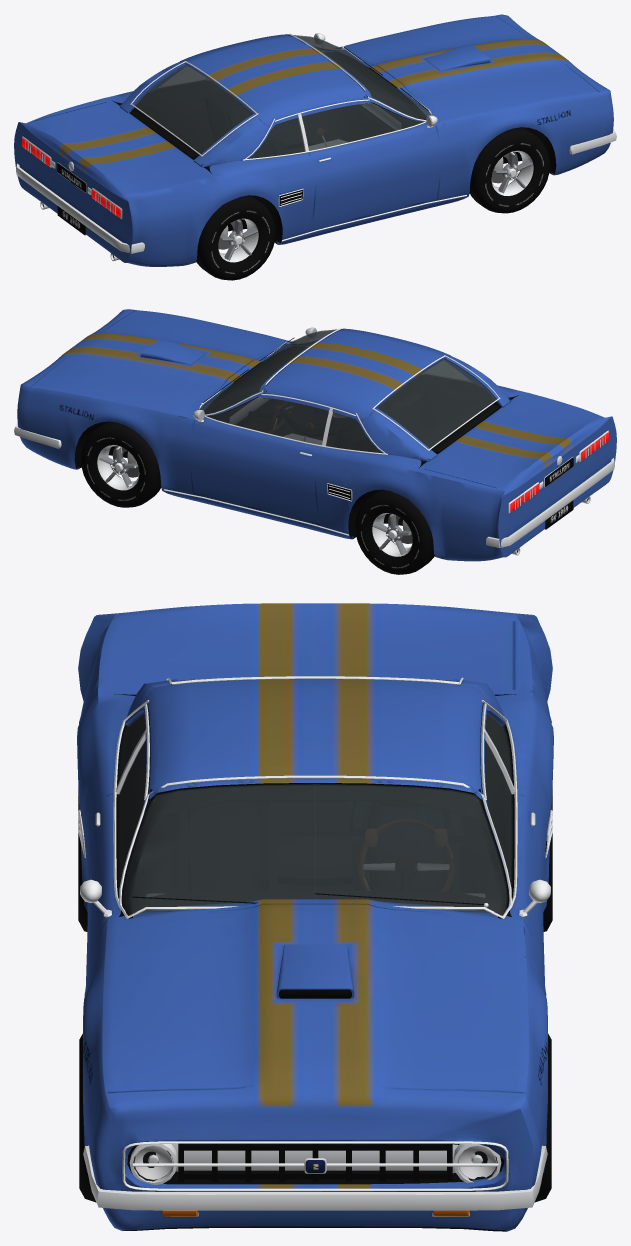
File: sv_stallion_drive.glb
The picture shows the model from 3 angles, top to bottom: view 1: azimuth 30°, elevation 25°; view 2: azimuth 150°, elevation 25°; view 3: azimuth 270°, elevation 25°; orthographic projection. The views are drawn at different scales.
Parts seen in each view (by area): view 1: body, glass, interior, tyre_FR, tyre_RR, window_R, driver, rim_FR, rim_RR, taillight_lens; view 2: body, glass, interior, tyre_FL, tyre_RL, window_L, driver, rim_FL, rim_RL, taillight_lens; view 3: body, glass, interior, driver, window_R, window_L, steering_wheel, tyre_FL, tyre_FR.
Part boxes in pixels (x1,y1,x2,y2): body: [14, 14, 616, 266]; glass: [135, 35, 432, 158]; interior: [132, 46, 419, 159]; tyre_FR: [469, 127, 549, 213]; tyre_RR: [196, 195, 275, 280]; window_R: [302, 103, 423, 150]; driver: [221, 93, 331, 155]; rim_FR: [491, 150, 533, 195]; rim_RR: [218, 218, 258, 262]; taillight_lens: [22, 138, 120, 217]; body: [14, 309, 616, 561]; glass: [198, 329, 496, 452]; interior: [211, 340, 498, 454]; tyre_FL: [81, 422, 161, 507]; tyre_RL: [355, 490, 434, 574]; window_L: [207, 398, 328, 445]; driver: [275, 405, 361, 448]; rim_FL: [97, 445, 139, 490]; rim_RL: [372, 513, 412, 556]; taillight_lens: [510, 432, 608, 512]; body: [77, 603, 553, 1231]; glass: [118, 679, 512, 1181]; interior: [130, 786, 500, 910]; driver: [349, 801, 463, 890]; window_R: [118, 740, 145, 888]; window_L: [485, 740, 512, 888]; steering_wheel: [358, 819, 454, 891]; tyre_FL: [534, 1033, 551, 1202]; tyre_FR: [79, 1033, 96, 1202].
Size of the model in its own units: 4.75 by 1.37 by 1.97.
Materials: 11 (6 with a texture image).
